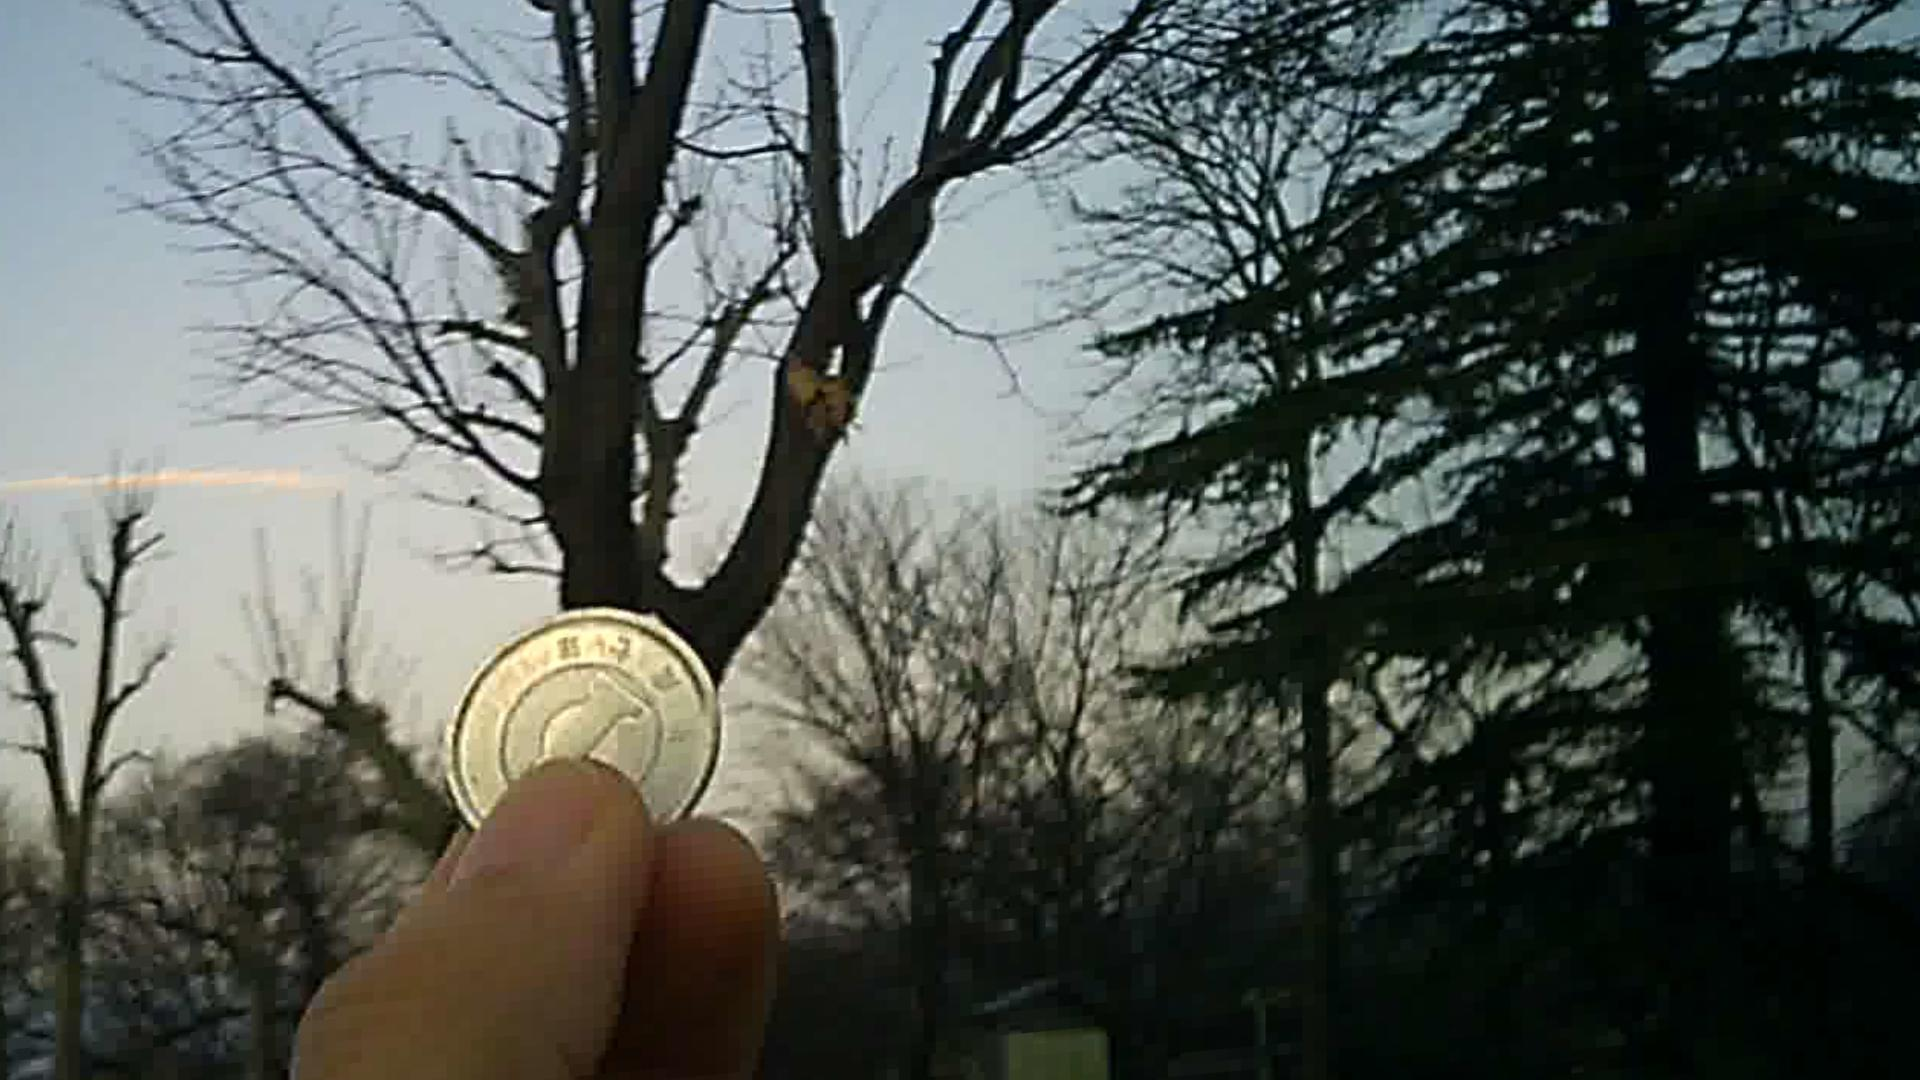1 Yen: (429, 597, 711, 856)
